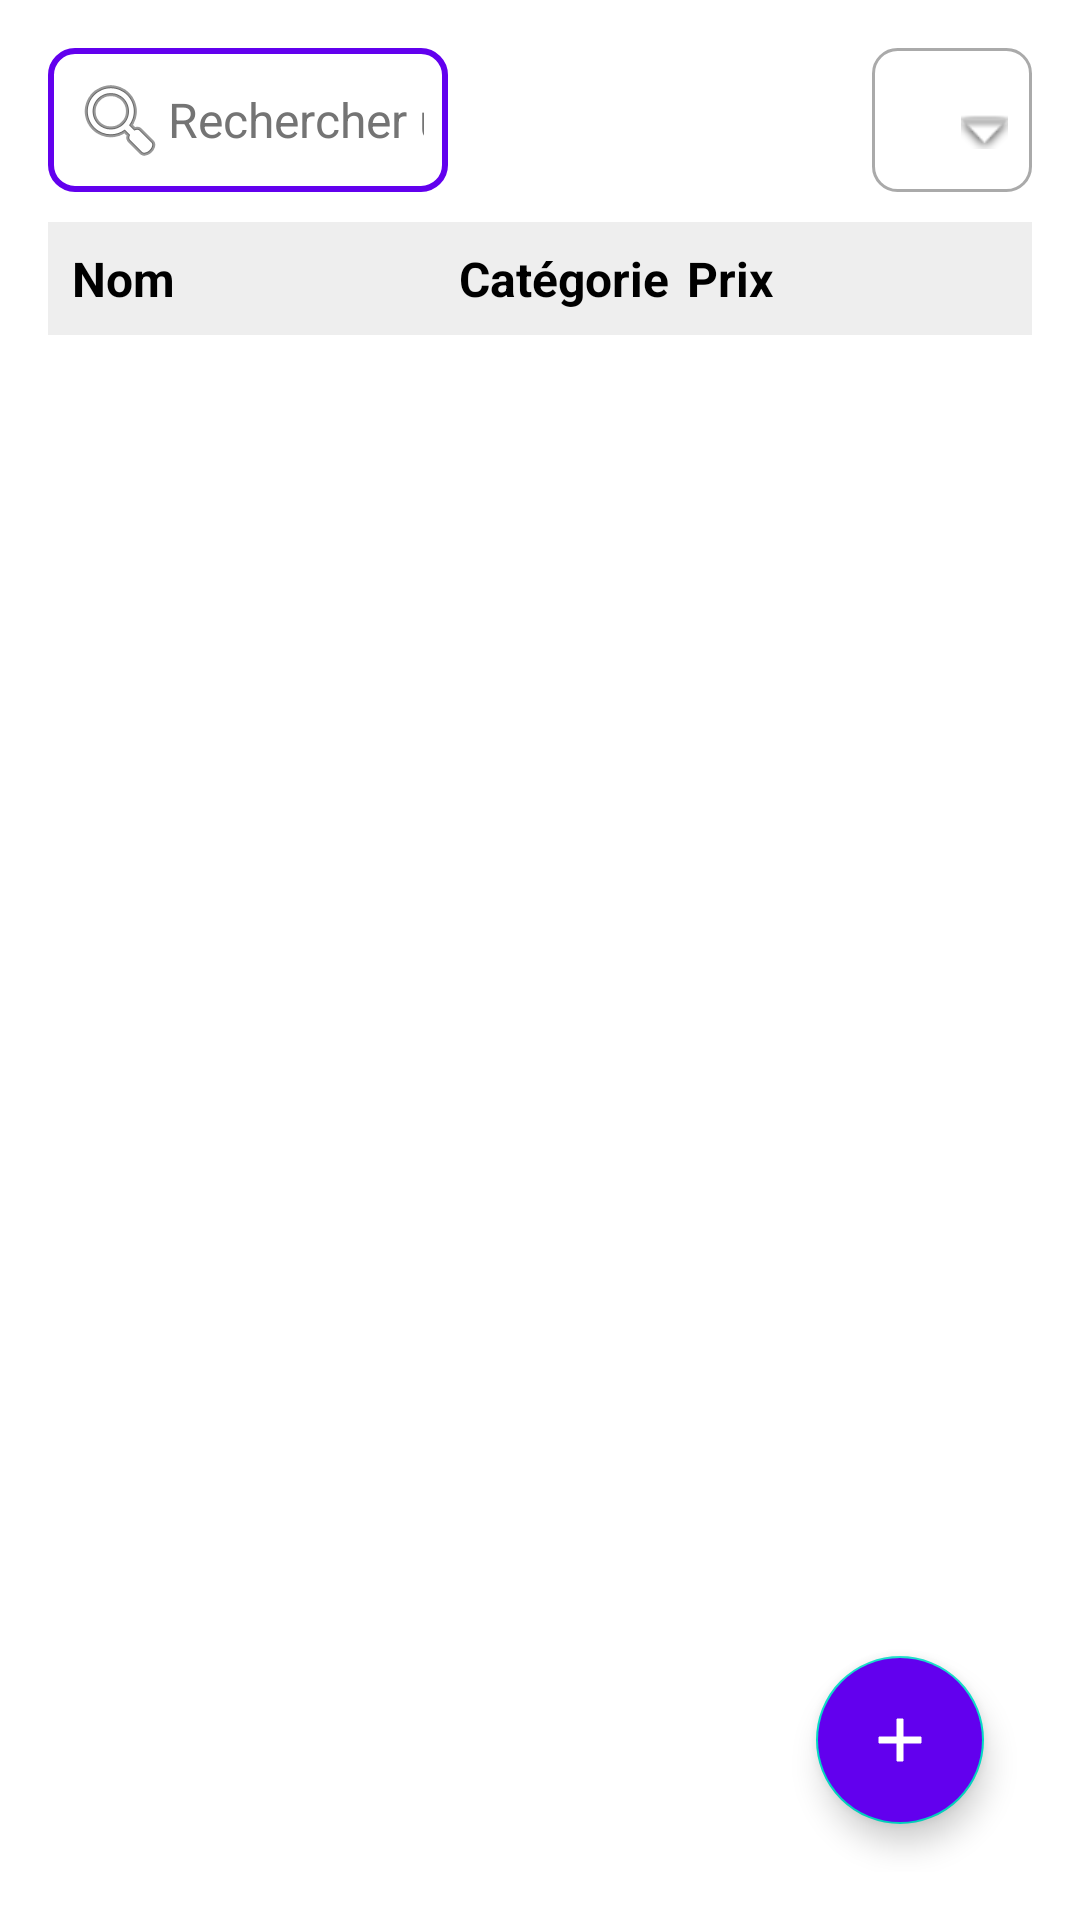

Point at icon controls on the screen. Image size 1080x1920, points as (x,y).
Ajouter un produit: (900,1740)
